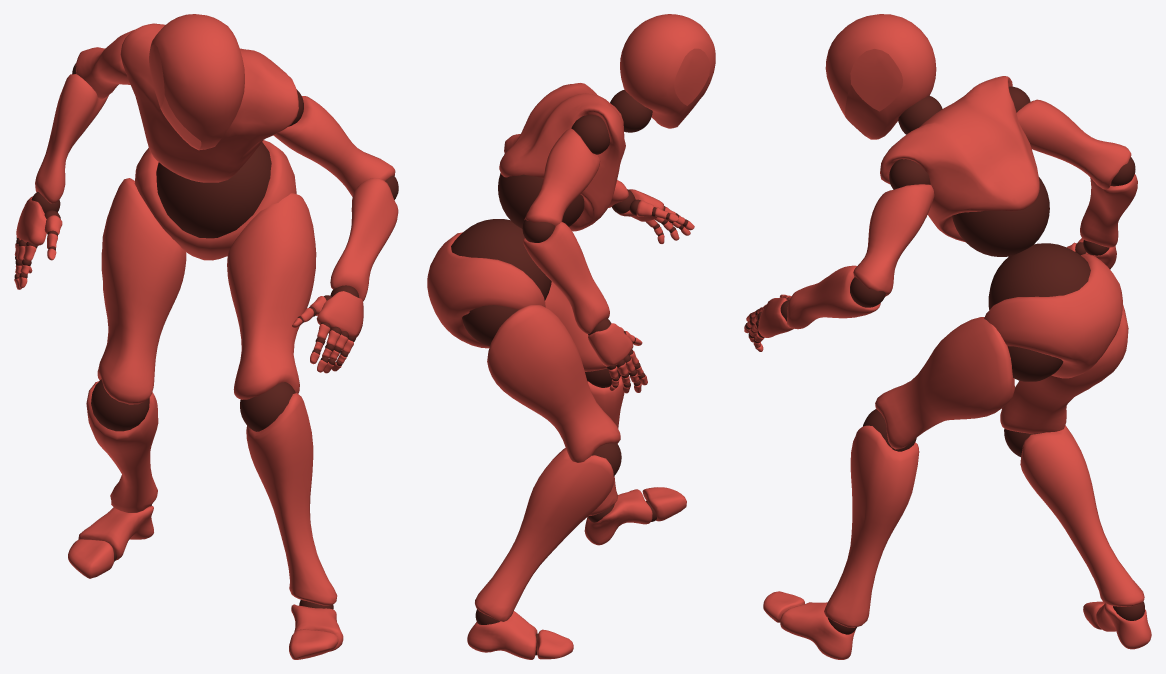
3 renders of one model, left to right at view 1: azimuth 30°, elevation 25°; view 2: azimuth 150°, elevation 25°; view 3: azimuth 270°, elevation 25°, orthographic. The views are drawn at different scales.
Visible parts, largest first — view 1: Beta_Surface, Beta_Joints; view 2: Beta_Surface, Beta_Joints; view 3: Beta_Surface, Beta_Joints.
Boxes of the visible parts, <box> form: Beta_Surface: <box>14,14,398,659</box>; Beta_Joints: <box>14,63,398,609</box>; Beta_Surface: <box>427,14,715,659</box>; Beta_Joints: <box>451,89,688,655</box>; Beta_Surface: <box>744,14,1151,659</box>; Beta_Joints: <box>745,86,1144,634</box>.
Size of the model in its own units: 0.6396 by 1.46 by 0.899.
